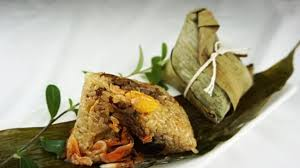zongzi: (65, 72, 197, 167), (163, 8, 252, 122)
